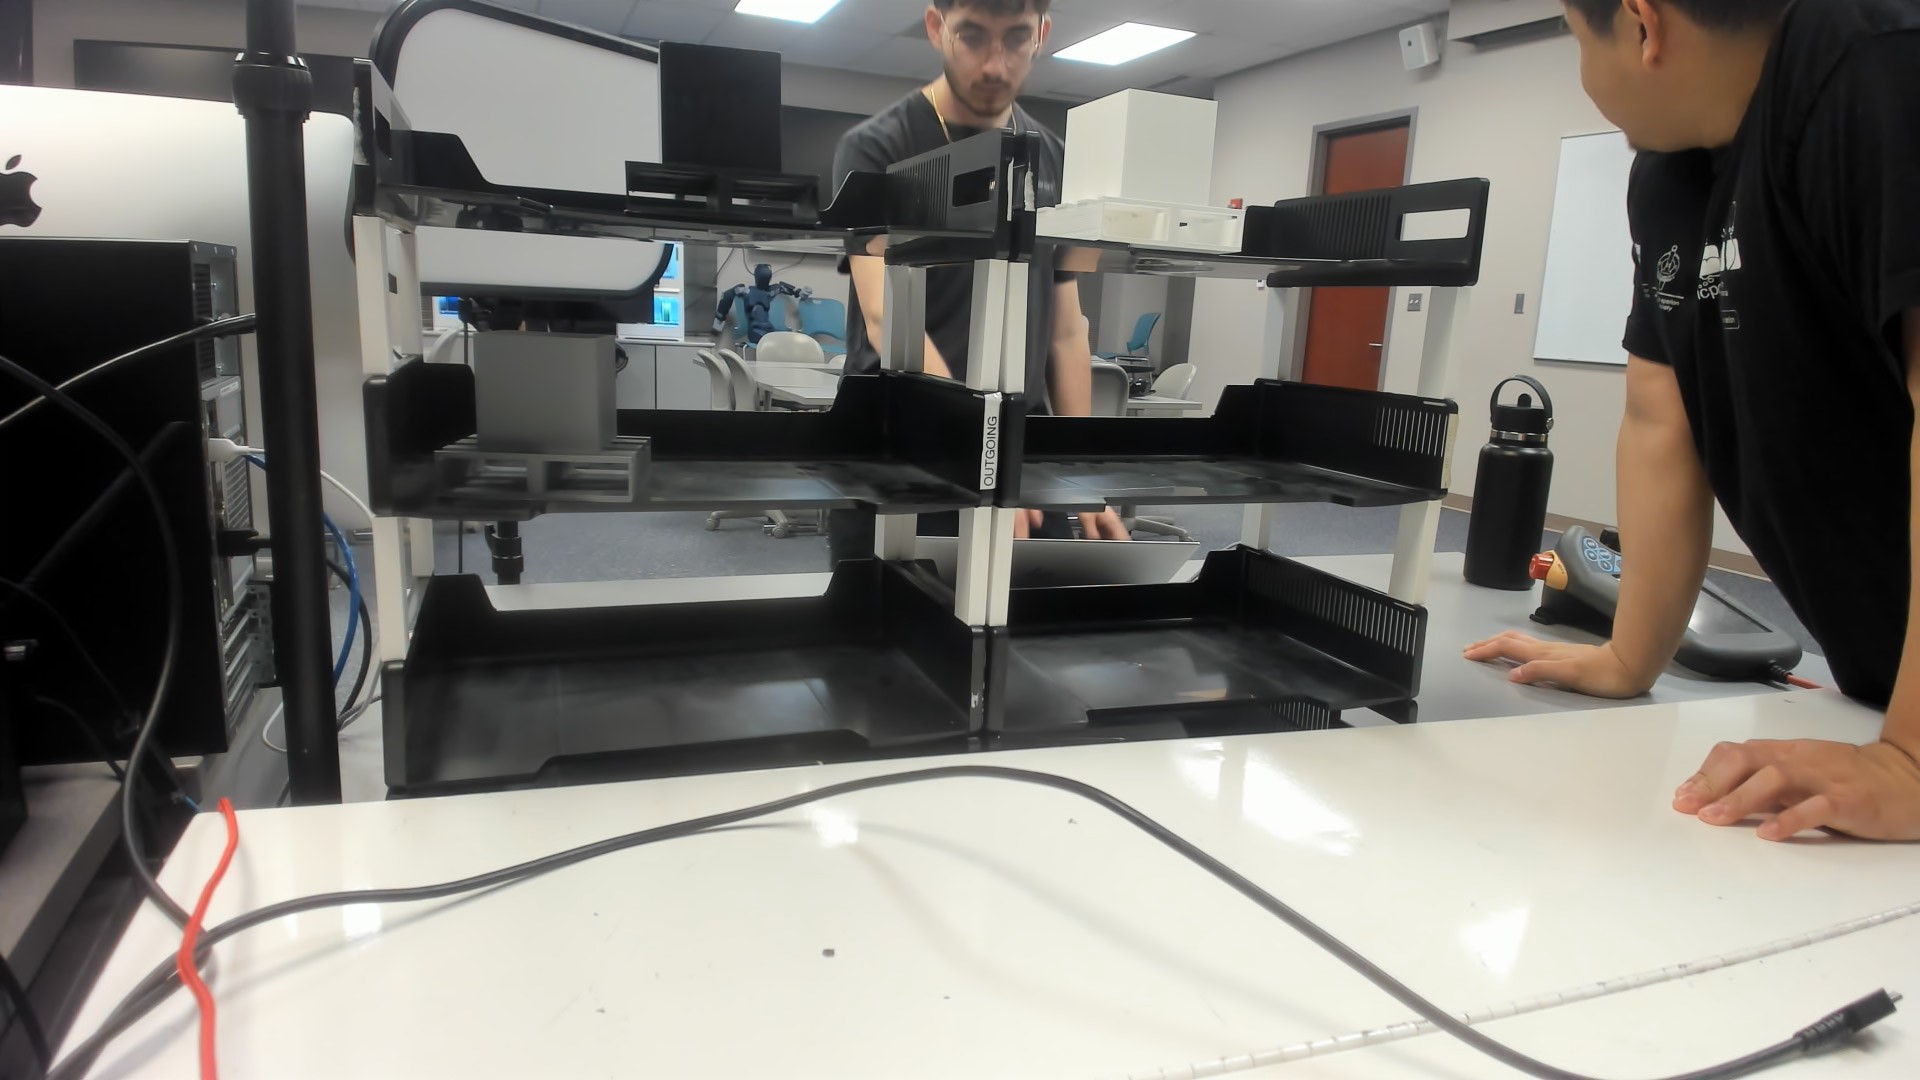black pallet: (618, 36, 825, 228)
grey pallet: (427, 324, 659, 516)
white pallet: (1030, 79, 1255, 266)
